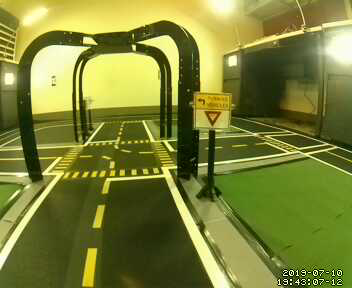Turn Yield: (194, 91, 232, 131)
